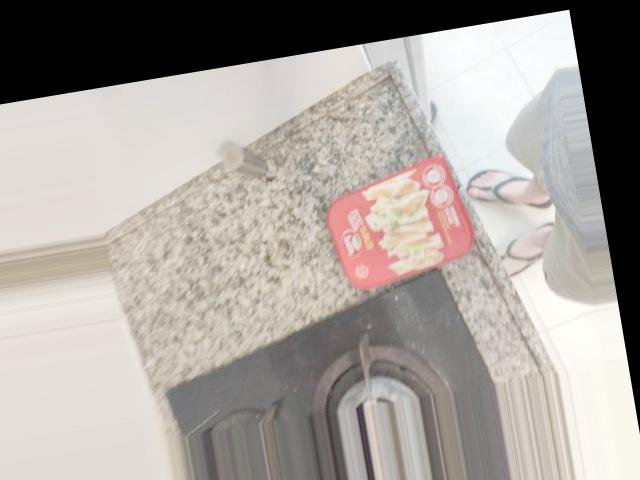cheese: (323, 144, 499, 293)
